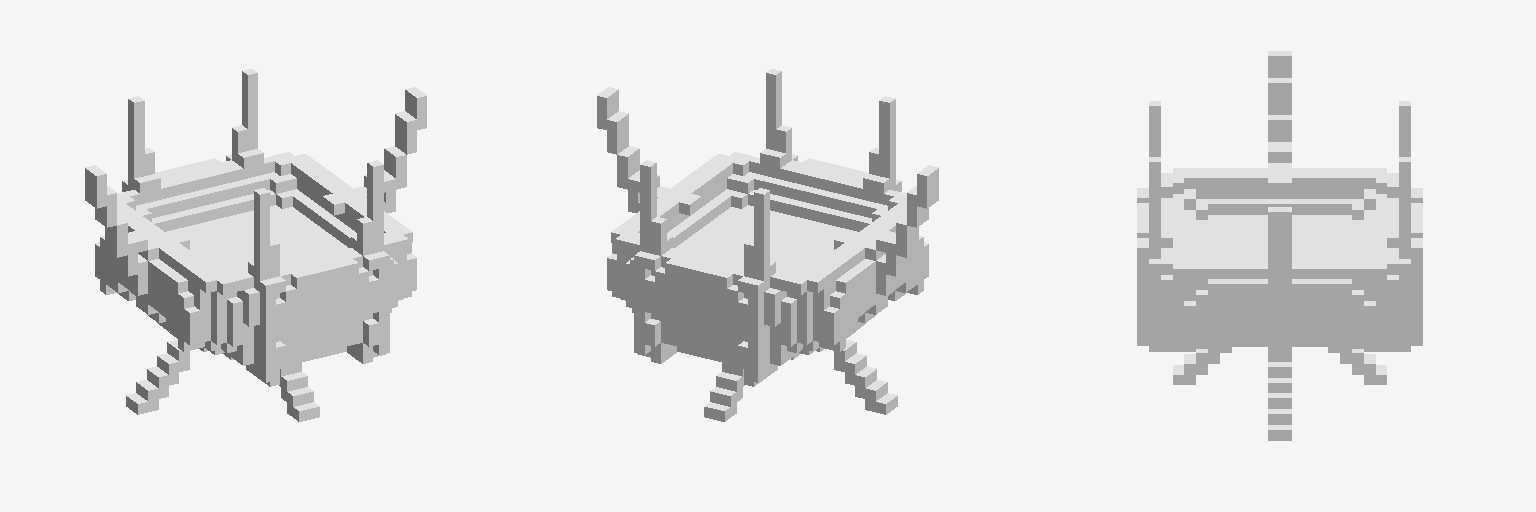
The model's file is voxltest.obj.
The picture shows the model from 3 angles: view 1: azimuth 30°, elevation 25°; view 2: azimuth 150°, elevation 25°; view 3: azimuth 270°, elevation 25°; orthographic projection.
Bounding box in the file's own units: 32 × 23 × 24.